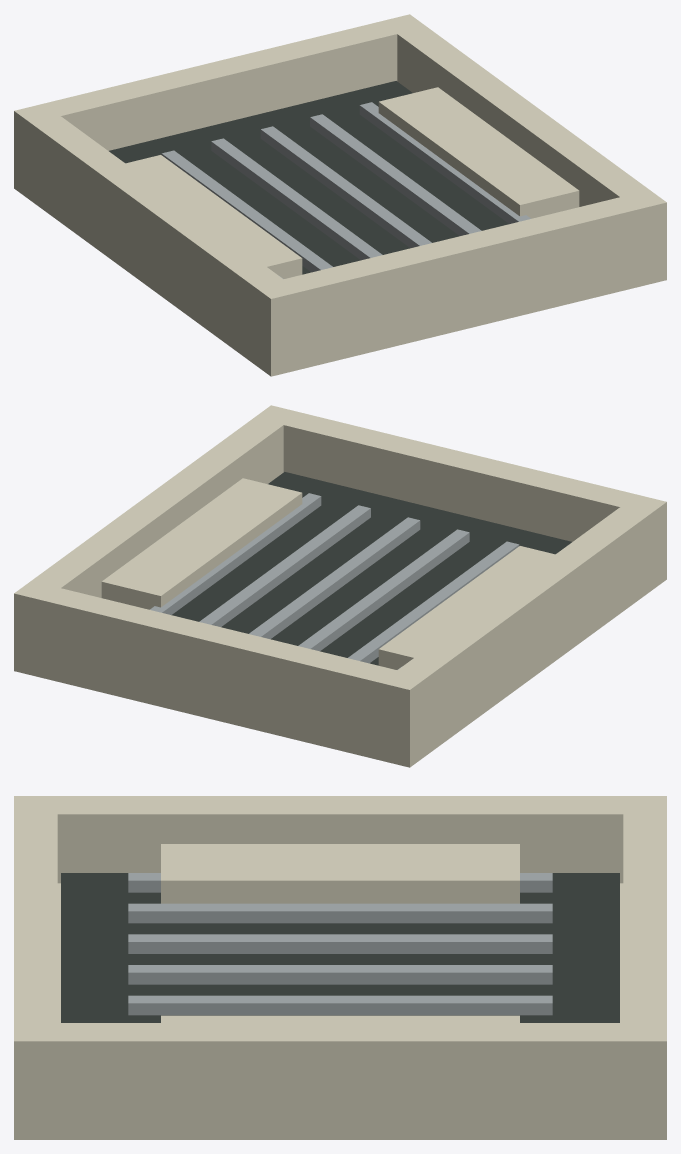
Rendered from bunker-shelter-construction-squat-toilet-platform-c1490bbc__23353.glb.
3 views of the same model, one above another, from view 1: azimuth 30°, elevation 25°; view 2: azimuth 150°, elevation 25°; view 3: azimuth 270°, elevation 25° (orthographic). The views are drawn at different scales.
Visible parts, largest first — view 1: squat-toilet-platform; view 2: squat-toilet-platform; view 3: squat-toilet-platform.
Part boxes in pixels (bbox=[...]): squat-toilet-platform: bbox=[14, 14, 666, 376]; squat-toilet-platform: bbox=[14, 405, 666, 767]; squat-toilet-platform: bbox=[14, 796, 666, 1139].
Bounding box in the file's own units: 0.8 × 0.15 × 0.9.
